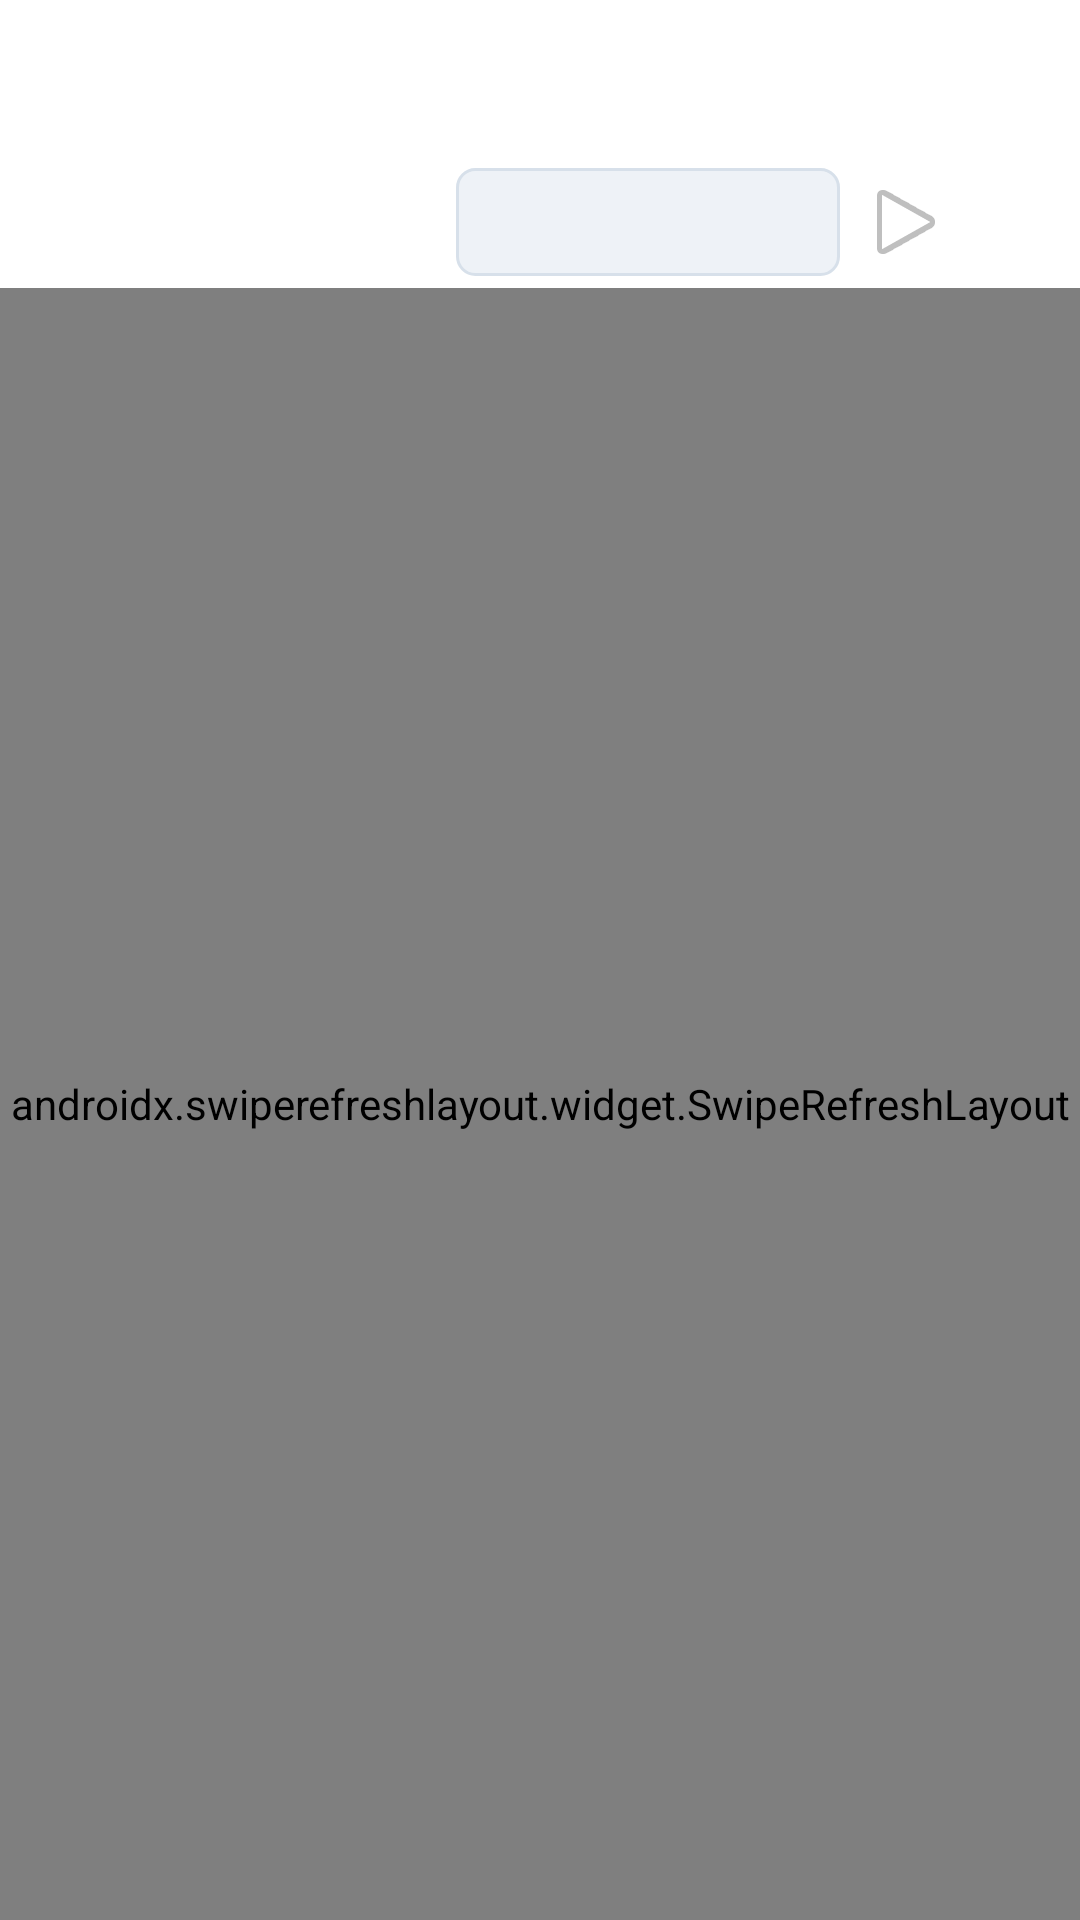

Named icons in this screenshot (1080px×1920px) and their centers, (x=x, y=y):
前往: (x=906, y=222)
